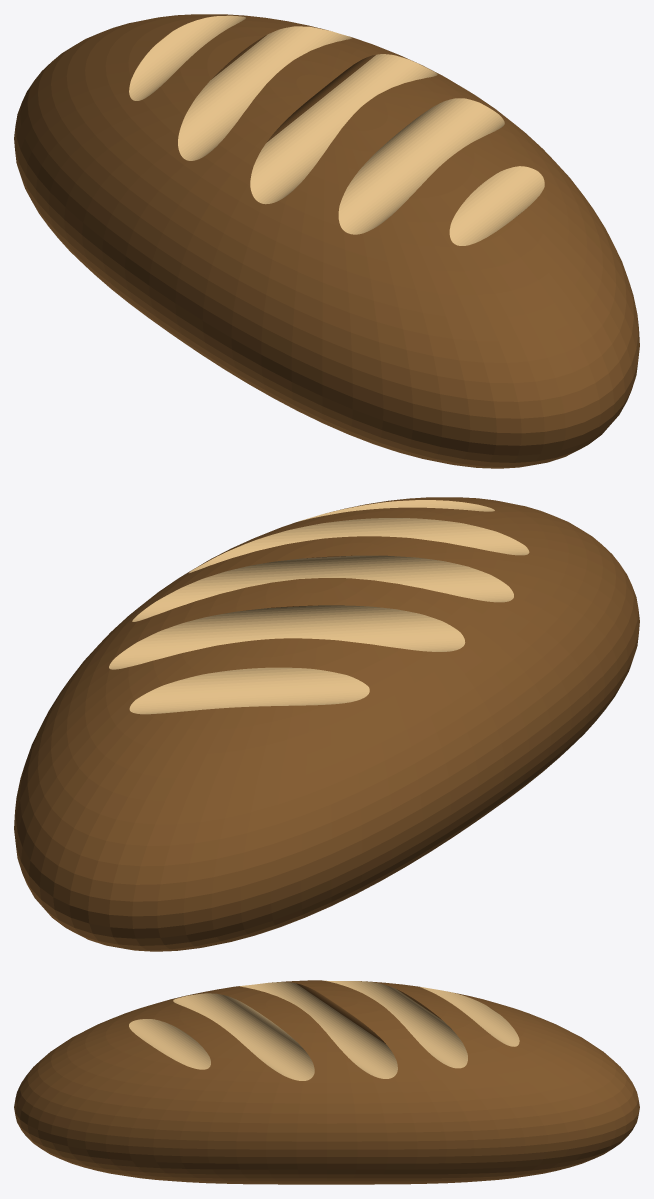
File: bread.fbx
3 renders of one model, top to bottom at view 1: azimuth 30°, elevation 25°; view 2: azimuth 150°, elevation 25°; view 3: azimuth 270°, elevation 25°, orthographic. The views are drawn at different scales.
Visible parts, largest first — view 1: Sphere; view 2: Sphere; view 3: Sphere.
Part boxes in pixels (x1,y1,x2,y2): Sphere: (14,14,639,468); Sphere: (14,497,639,951); Sphere: (14,980,639,1184).
Bounding box in the file's own units: 47.93 × 27.52 × 98.04.
